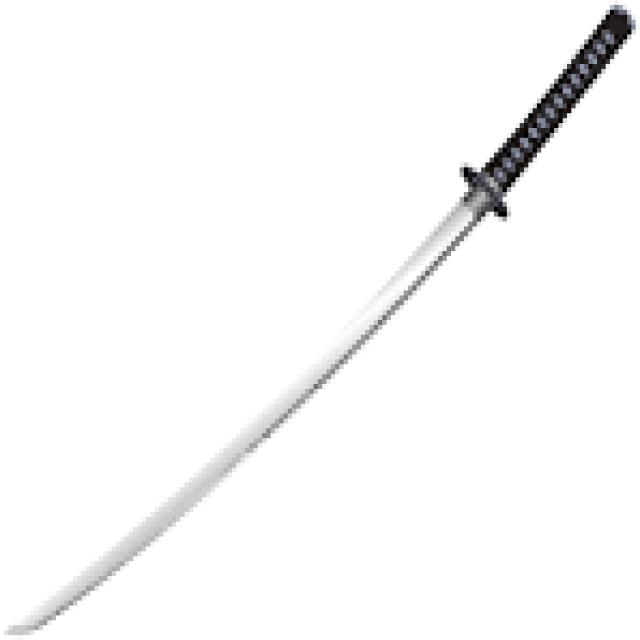knife: (6, 5, 636, 635)
